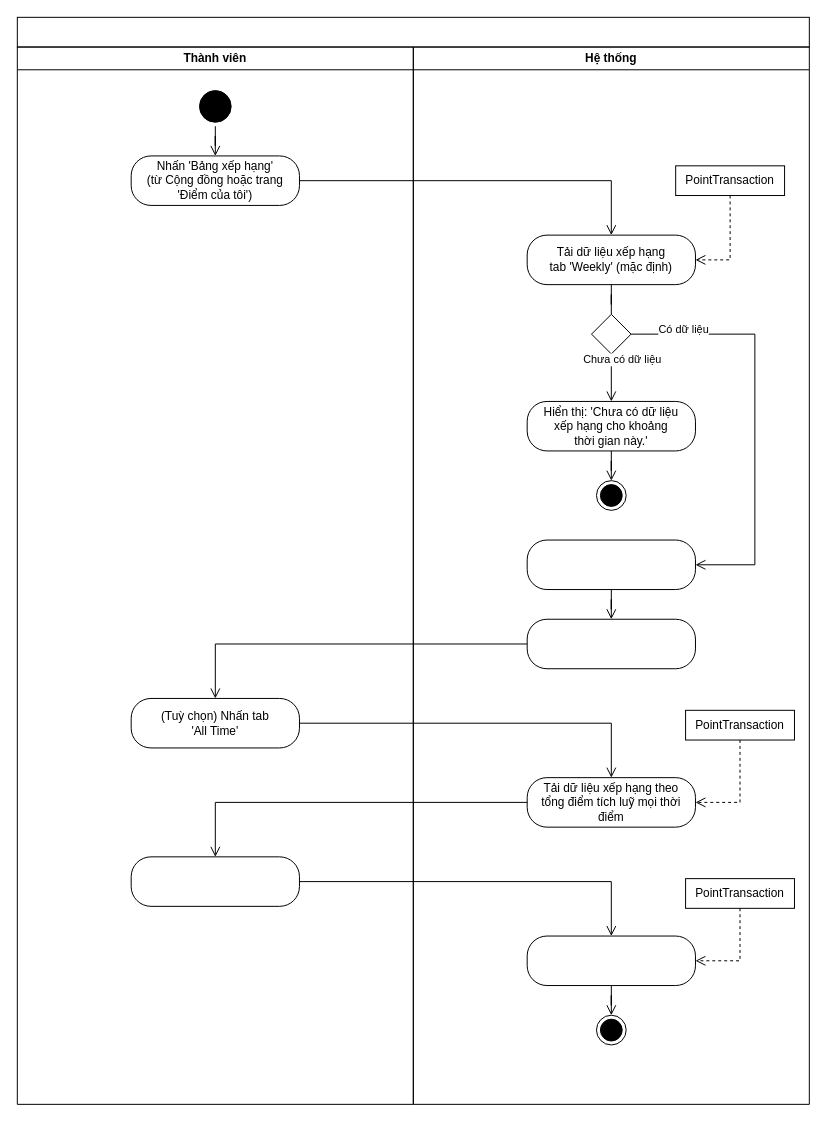
The diagram is 827 pixels wide and 1122 high, and some of its shapes have lost their labels. The shapes that lost their labels are listed below. From the top down, each one's box as (x1, y1, x2, y2) in pixels, then its label:
(16, 16, 809, 47): XEM BẢNG XẾP HẠNG CỘNG ĐỒNG
(526, 539, 695, 590): Hiển thị danh sách: vị trí, avatar, họ tên, username, badge rank, tổng điểm XP
(526, 618, 695, 669): Làm nổi bật dòng của thành viên, gắn nhãn 'Bạn'
(130, 856, 299, 906): (Tuỳ chọn) Cuộn xuống cuối danh sách
(526, 935, 695, 986): Tự động tải thêm các vị trí tiếp theo
